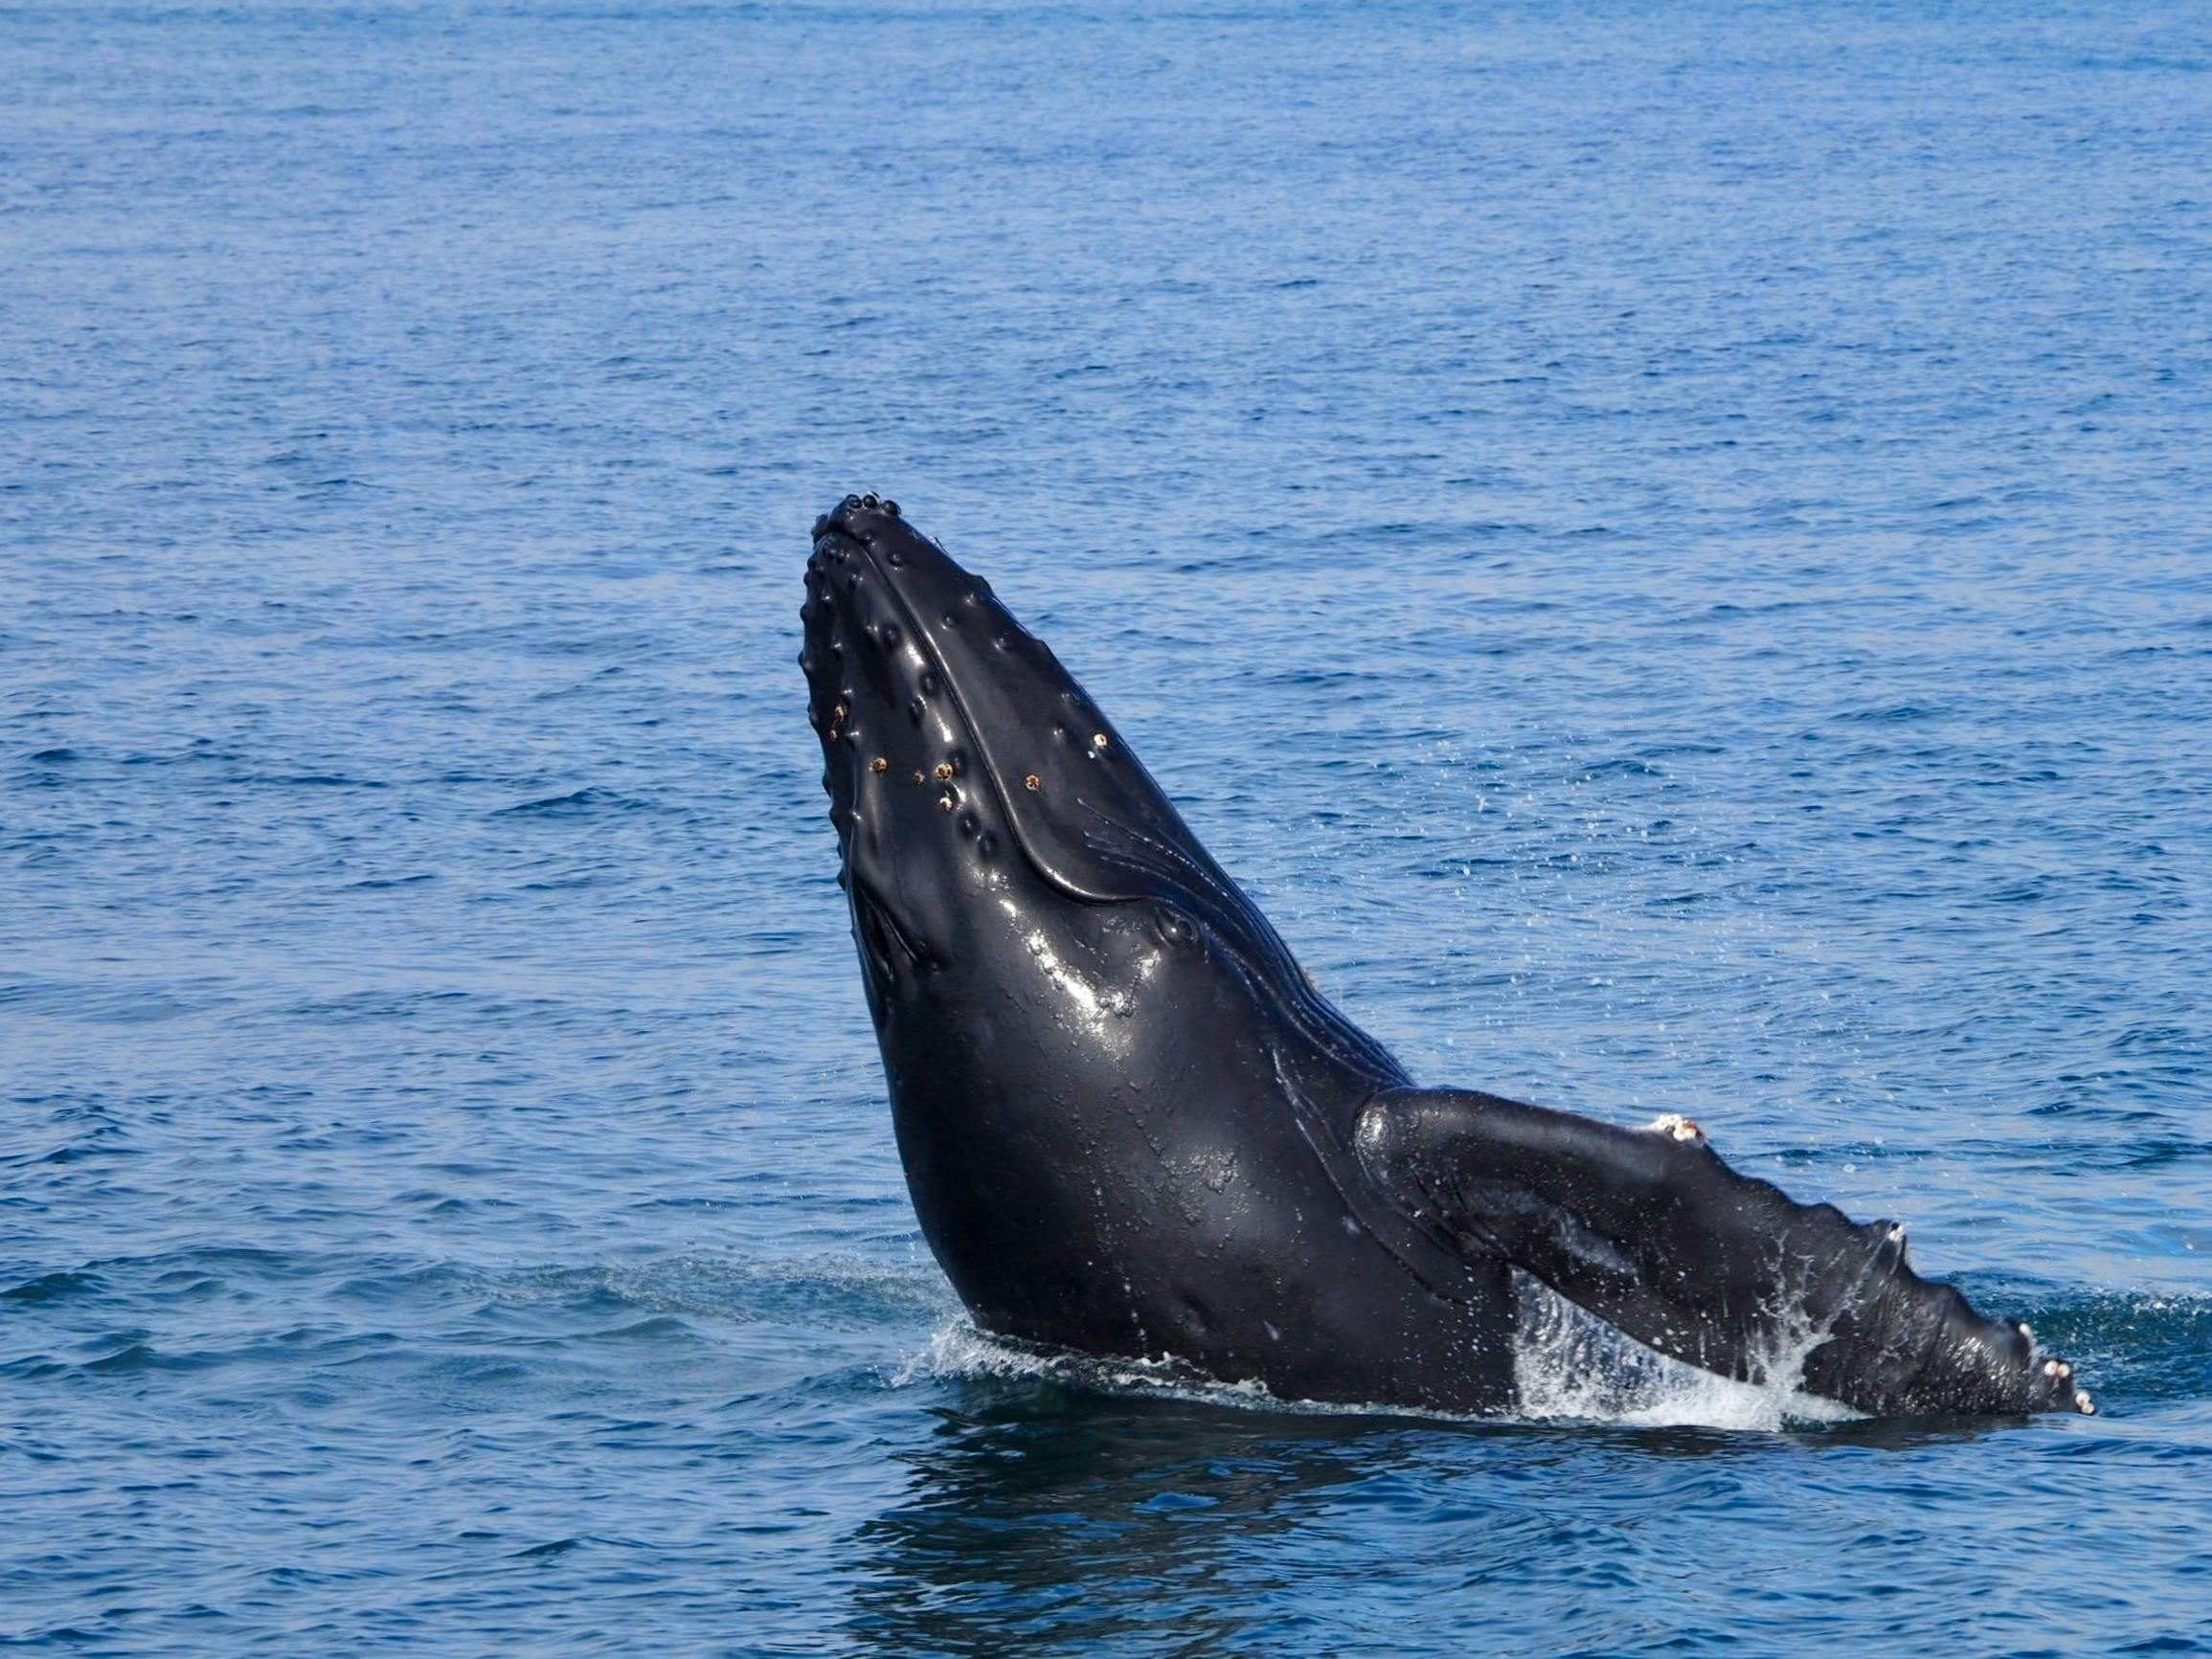whale: (788, 483, 2102, 1427)
